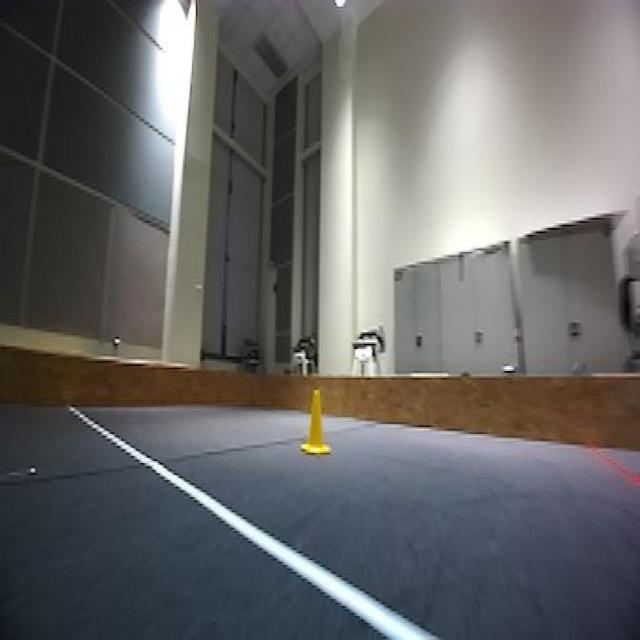frc_cone: (300, 388, 330, 453)
